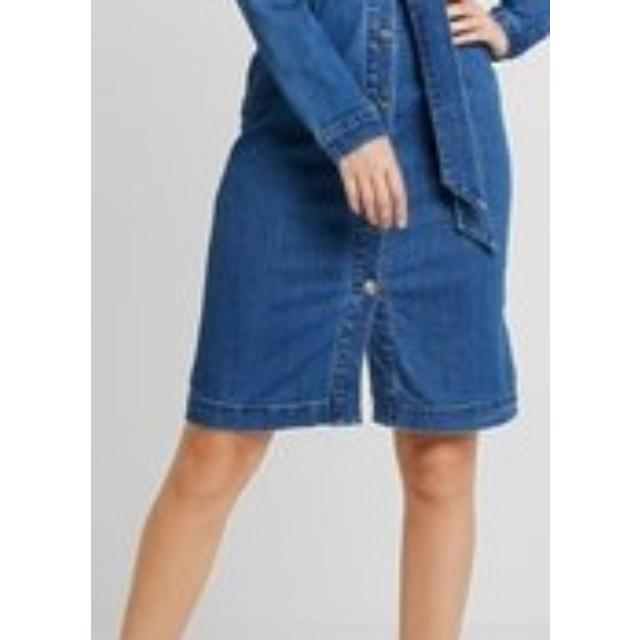denim: (175, 0, 550, 430)
